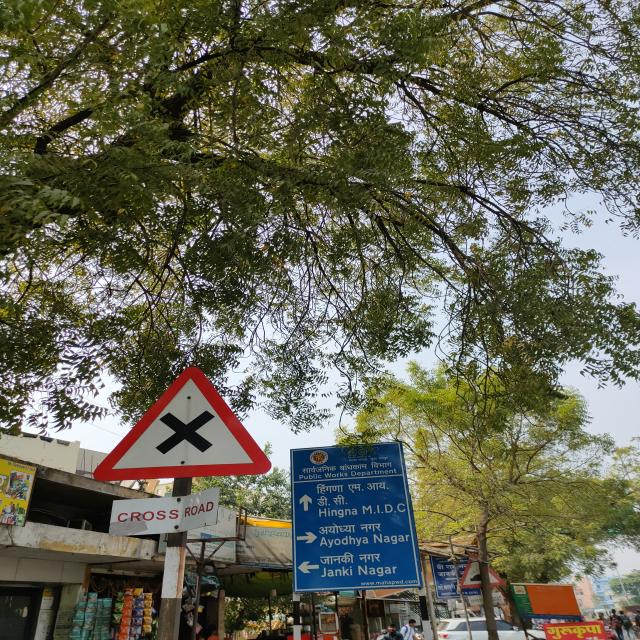CROSS_ROAD: (91, 365, 273, 483)
GENERAL: (286, 440, 425, 594)
